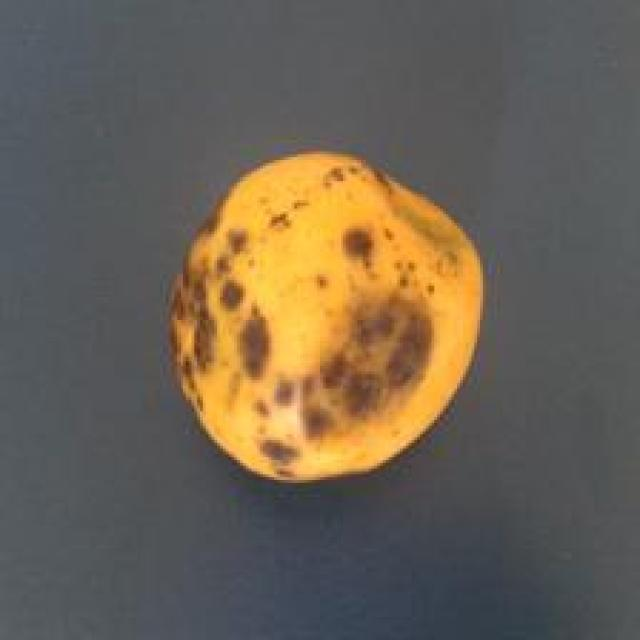black spot: (164, 146, 488, 487)
